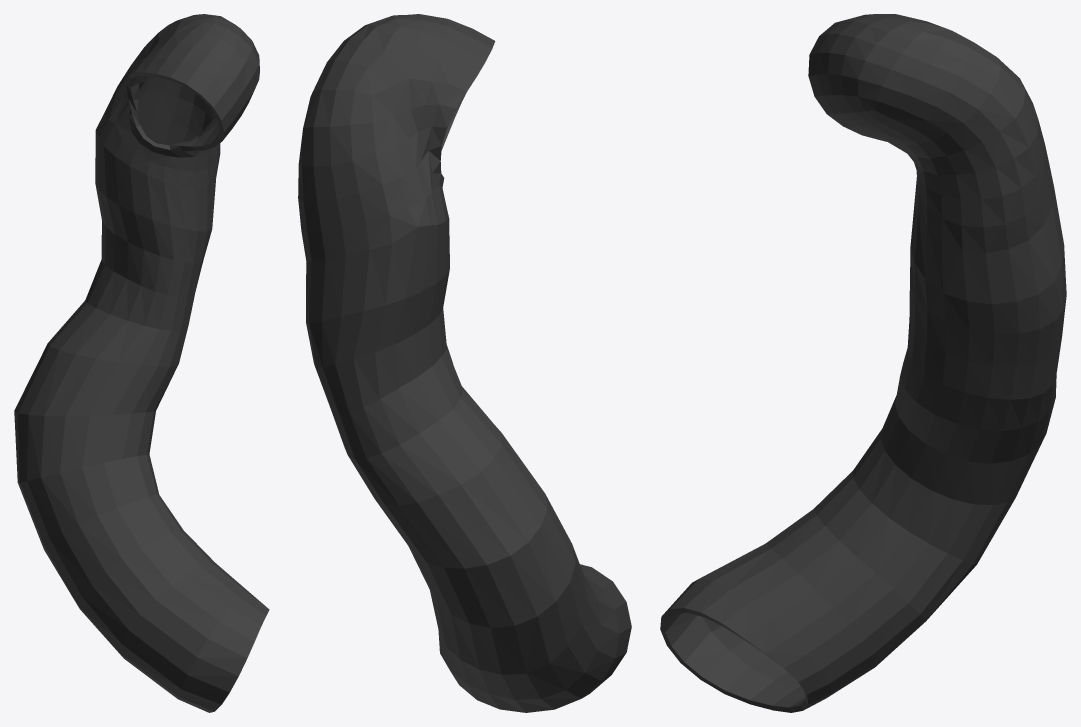
File: colon_transverse_LP.glb
3 views of the same model, side by side, from view 1: azimuth 30°, elevation 25°; view 2: azimuth 150°, elevation 25°; view 3: azimuth 270°, elevation 25° (orthographic). The views are drawn at different scales.
Visible parts, largest first — view 1: colon_transverse_LP; view 2: colon_transverse_LP; view 3: colon_transverse_LP.
Boxes of the visible parts, x1,y1,x2,y2 form: colon_transverse_LP: (14,14,269,712); colon_transverse_LP: (298,14,631,712); colon_transverse_LP: (660,14,1066,712).
Bounding box in the file's own units: 0.003 × 0.00838 × 0.00429.
1 material, 1 textured.
